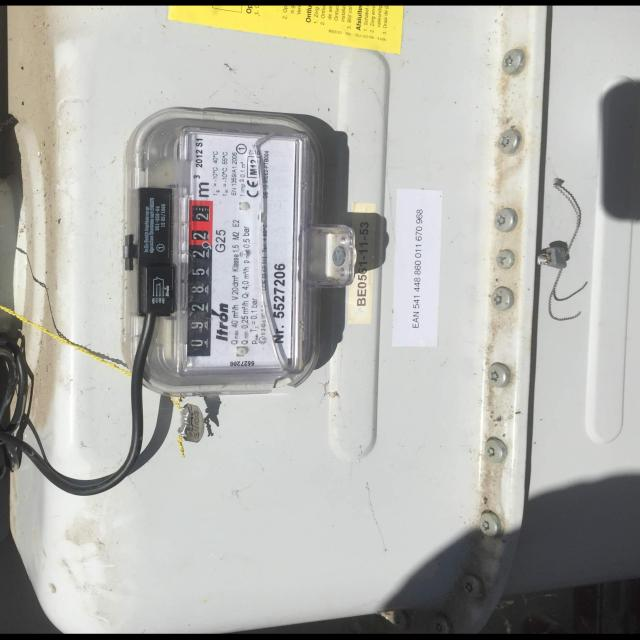gaz_meter: (172, 123, 300, 376)
indication: (188, 201, 212, 358)
